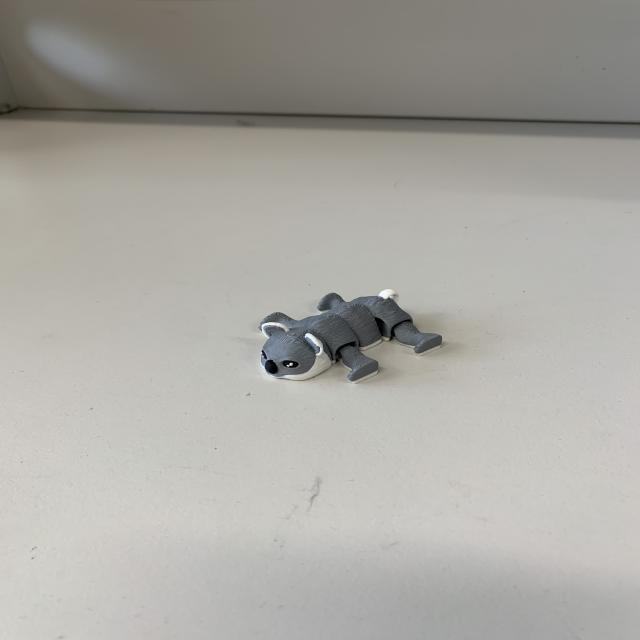koala: (243, 275, 452, 396)
